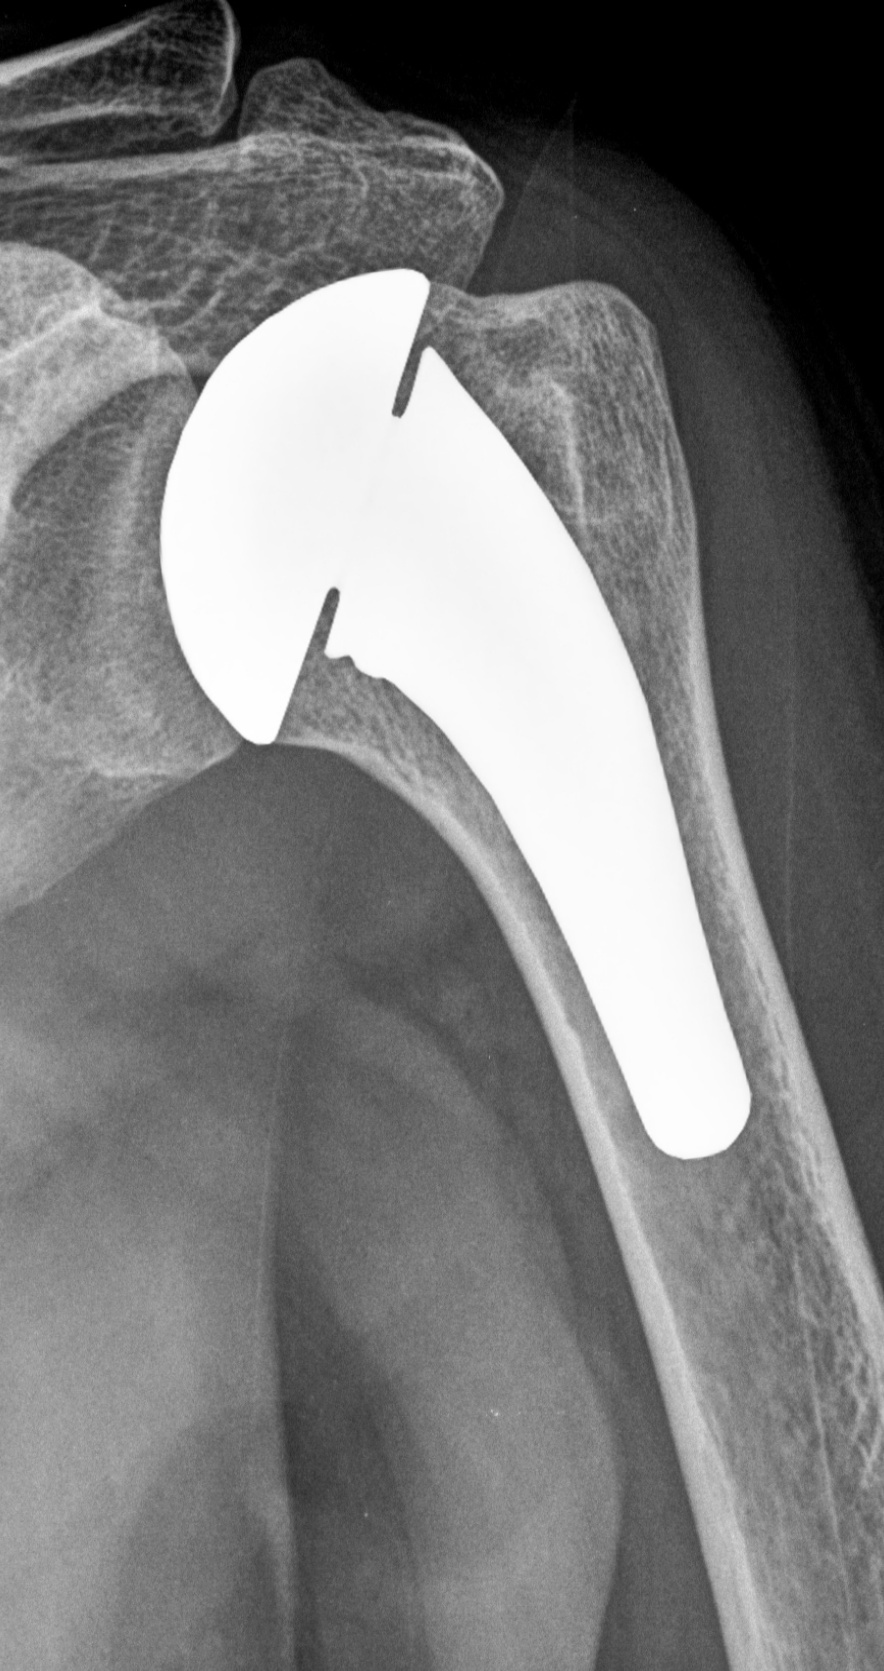Shoulder - AequalisAscendFlex - Tornier: (148, 267, 446, 761)
